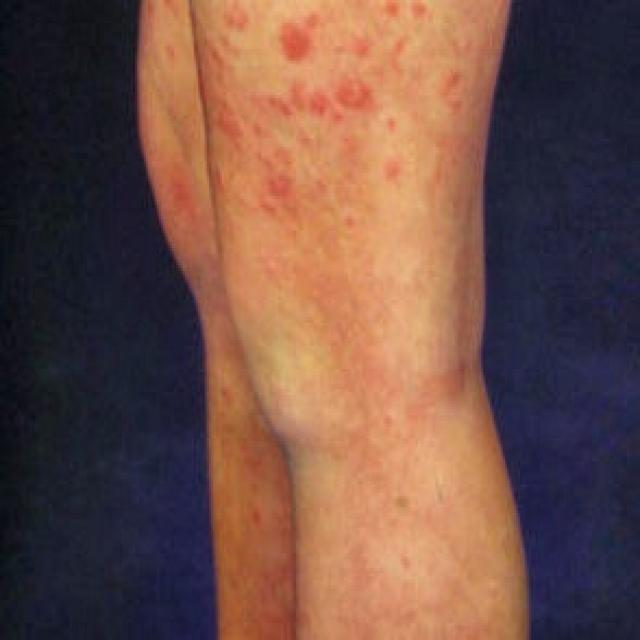Warts-Molluscum-and-other-Viral-Infections: (195, 11, 502, 252)
